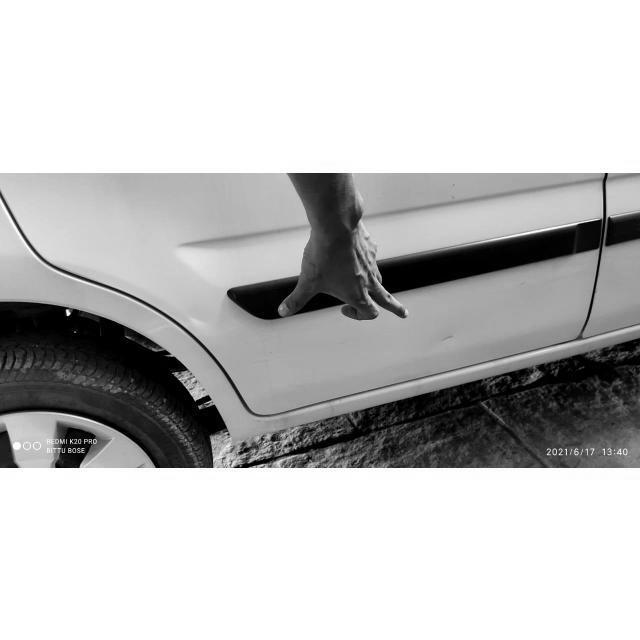doorouter-dent: (228, 174, 602, 367)
